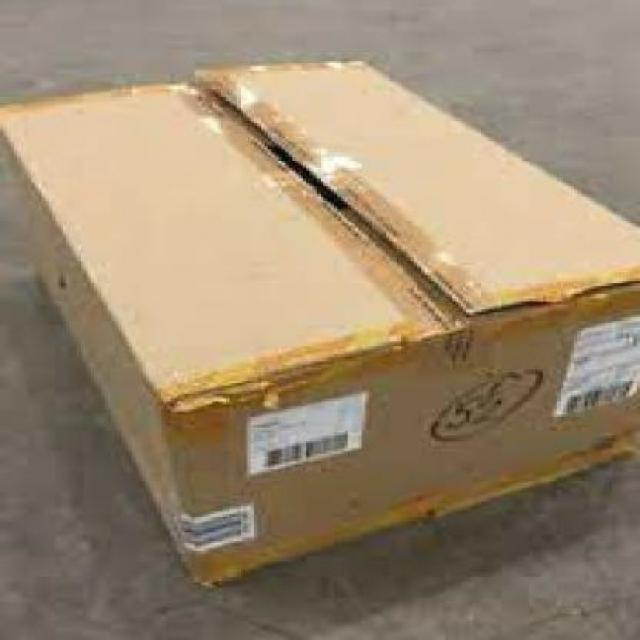box: (0, 34, 637, 617)
